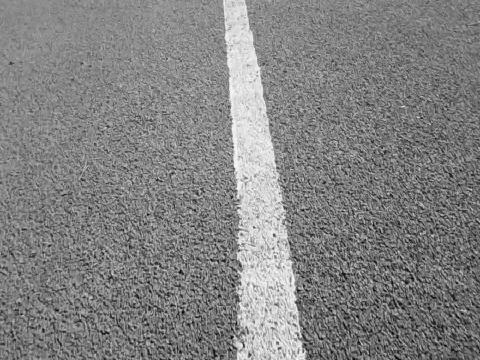Lines: (221, 0, 309, 360)
